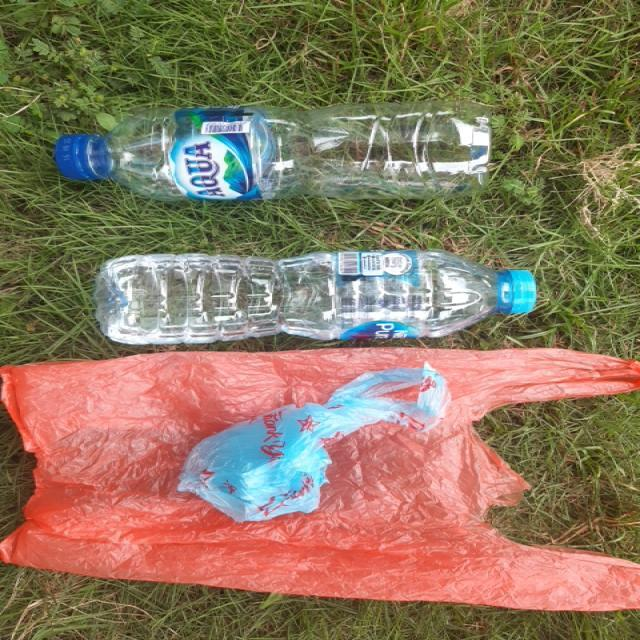Single-layer Plastic: (0, 349, 640, 611), (174, 364, 463, 530)
